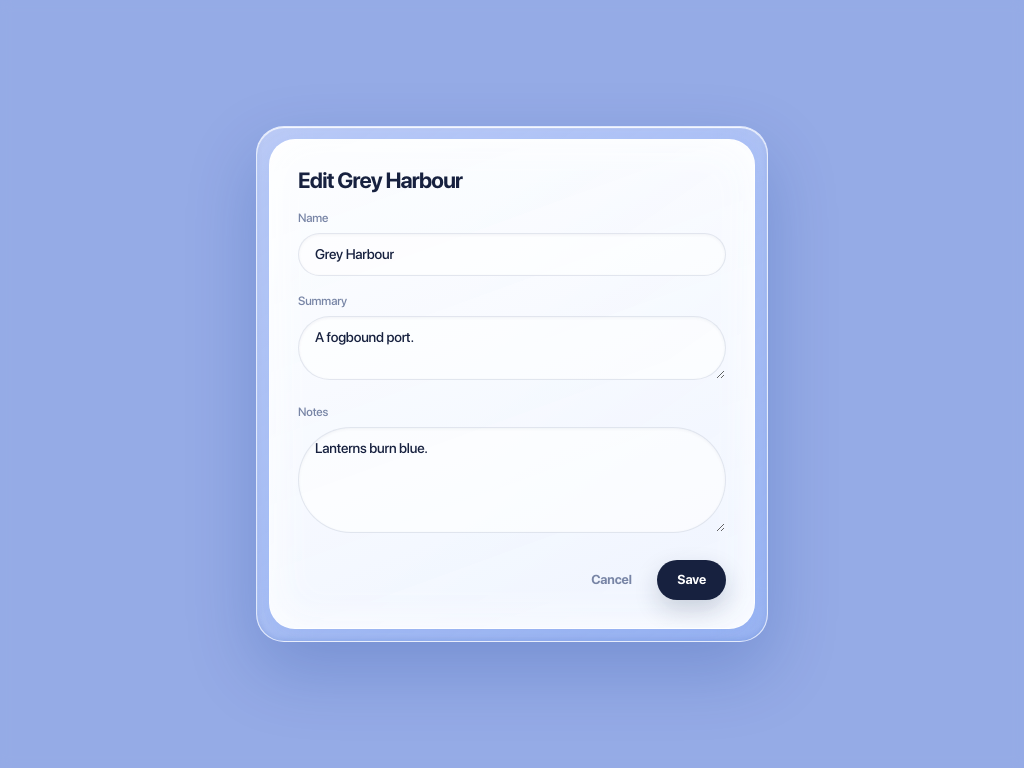
a rejected save surfaces the reason and keeps the edits
Type " More." into the text box labelled "Notes" at point(512, 480), box [298,427,726,533]
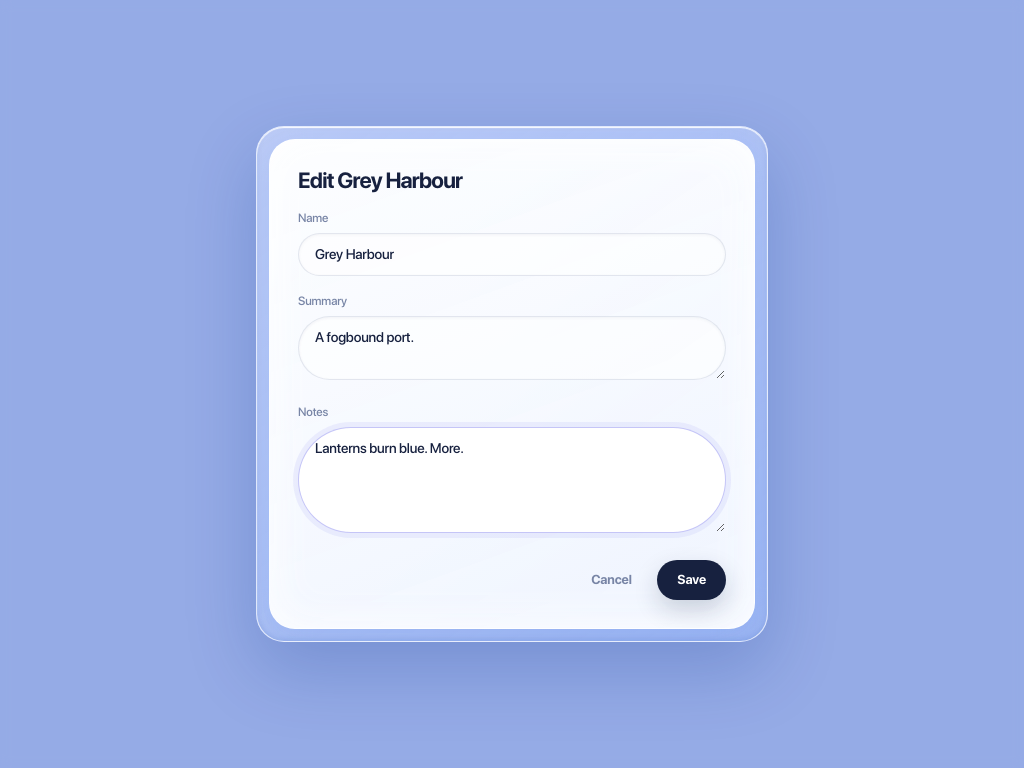
Click the button "Save" at point(692, 580), box [657,560,726,600]
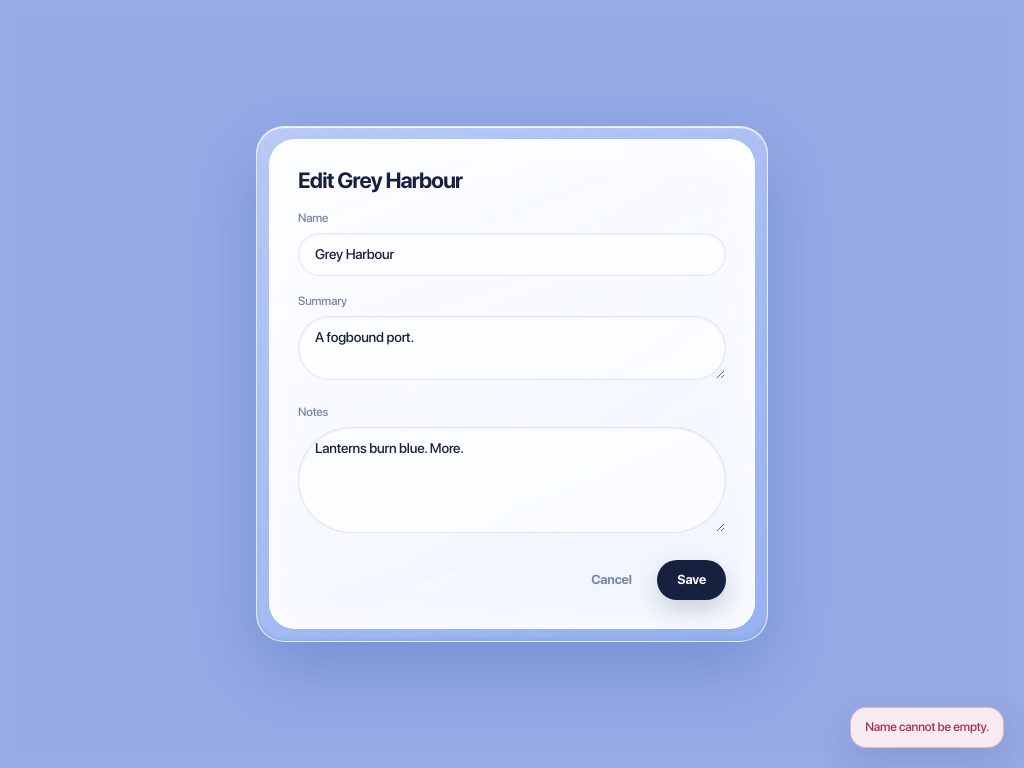
Expected: the text box labelled "Notes" holds "Lanterns burn blue. More.", [298,427,726,533]
Expected: the text "Name cannot be empty." is shown, [850,707,1004,748]
